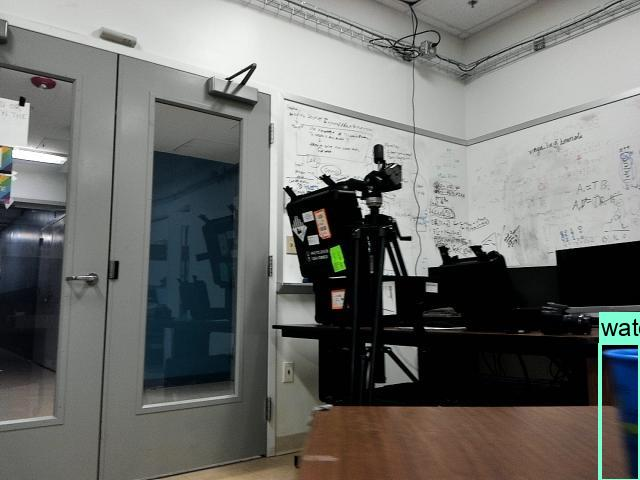water_cup: (593, 343, 640, 480)
